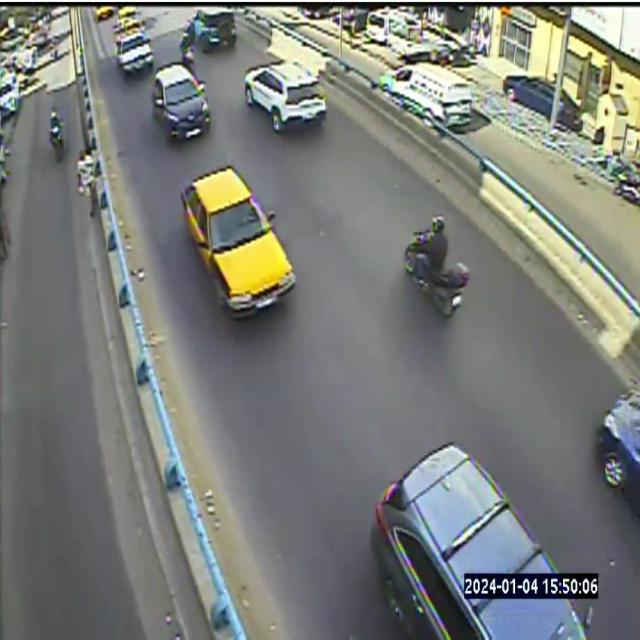car: (371, 443, 592, 639), (182, 167, 295, 316), (243, 60, 326, 132), (378, 63, 472, 126), (597, 388, 639, 507), (153, 62, 211, 138), (191, 7, 236, 52), (117, 30, 153, 76)
